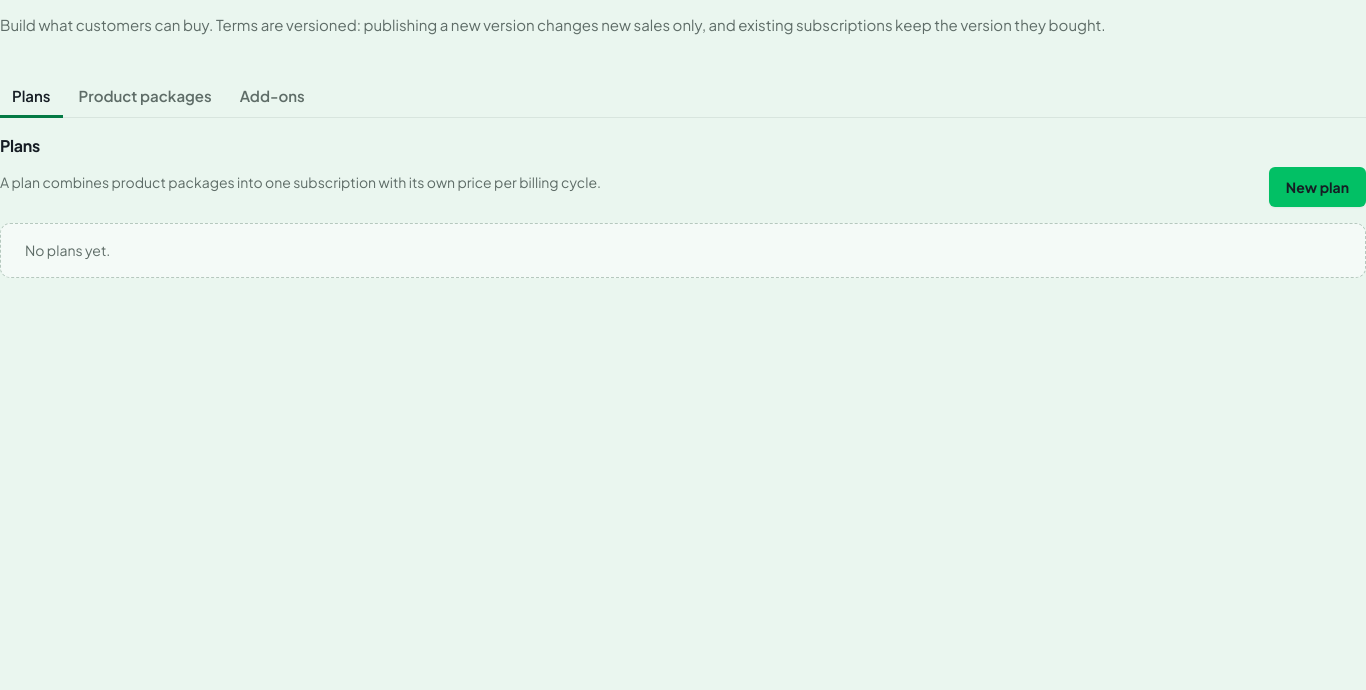
Test: the plan builder › publishes a new version of an existing package, pre-filled from the current one
Click the tab "Product packages".
click(145, 97)  # box [66, 77, 224, 118]
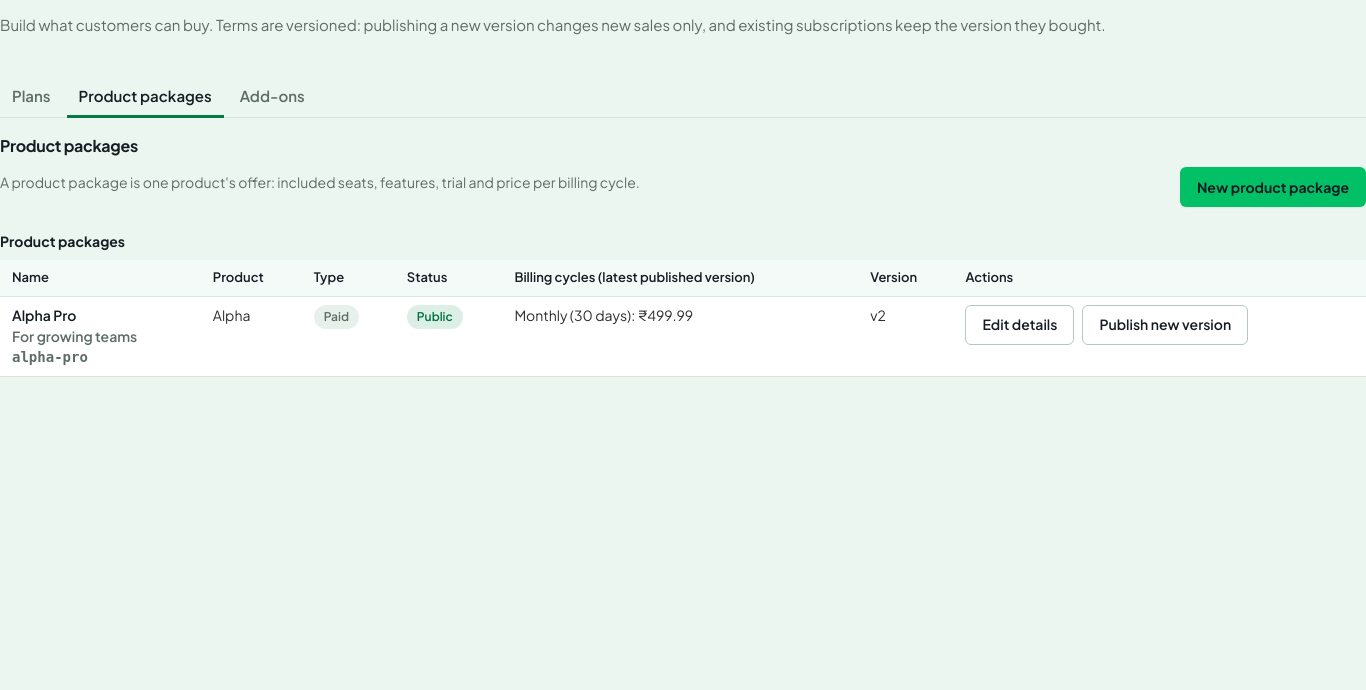
Click the button with aria-label "Publish new version of Alpha Pro".
click(1165, 325)  # box [1082, 305, 1248, 345]
(page scrolled)
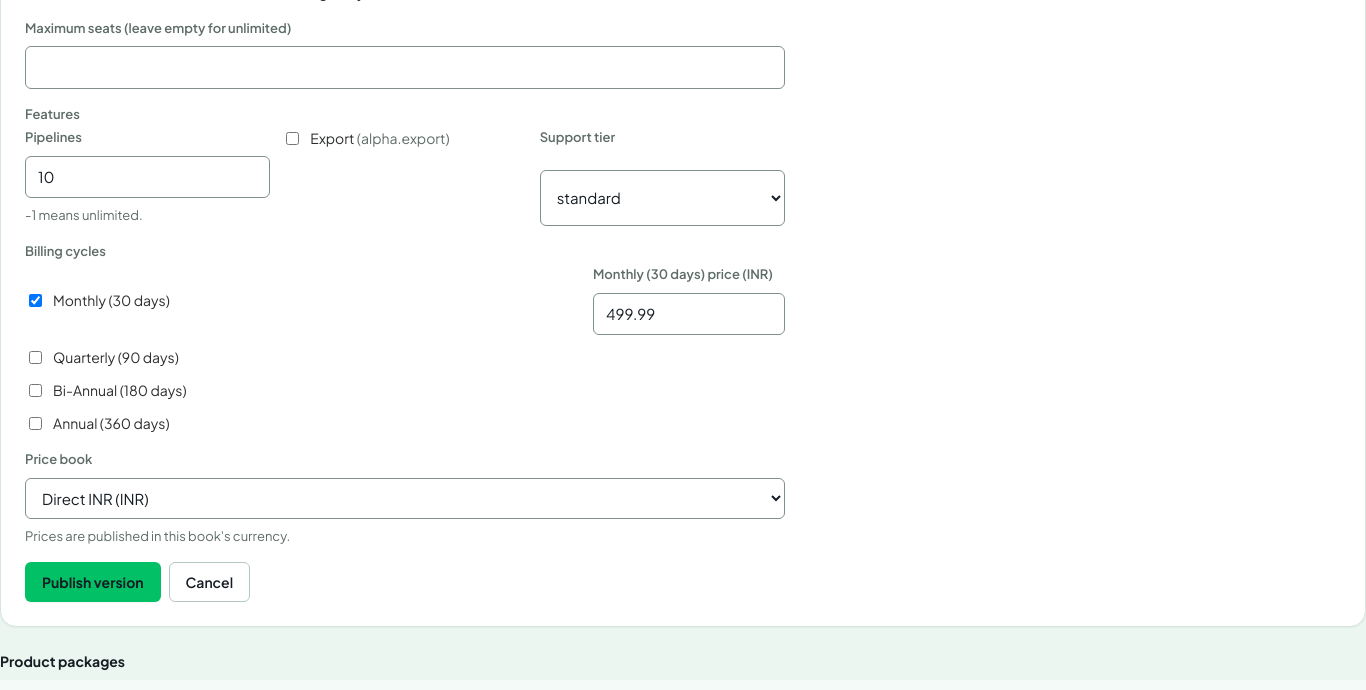
expect the field labelled "Monthly (30 days) price (INR)" holds "499.99": met
expect the field labelled "Pipelines" holds "10": met, box [25, 156, 270, 198]
Replace the text in the field labelled "Monthly (30 days) price (INR)" with "549" at (689, 314), box [593, 293, 785, 335]
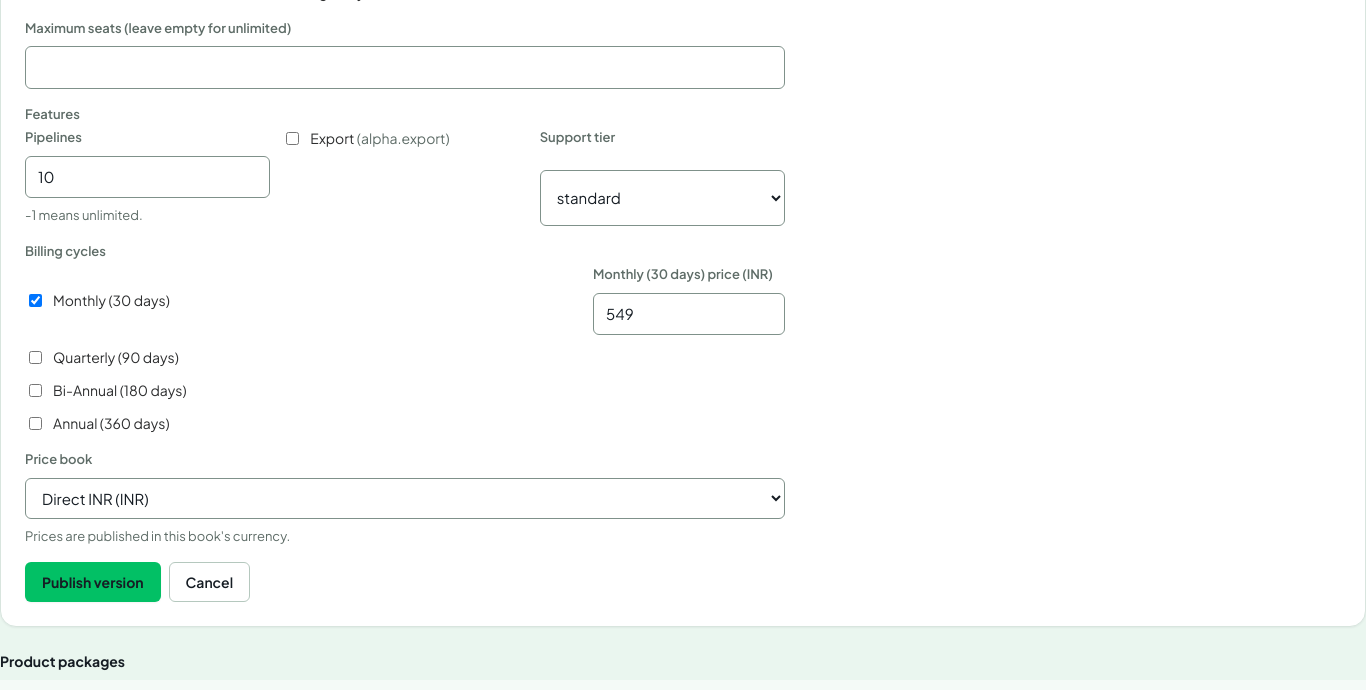
Click the button "Publish version".
click(93, 582)  # box [25, 562, 161, 602]
(page scrolled)
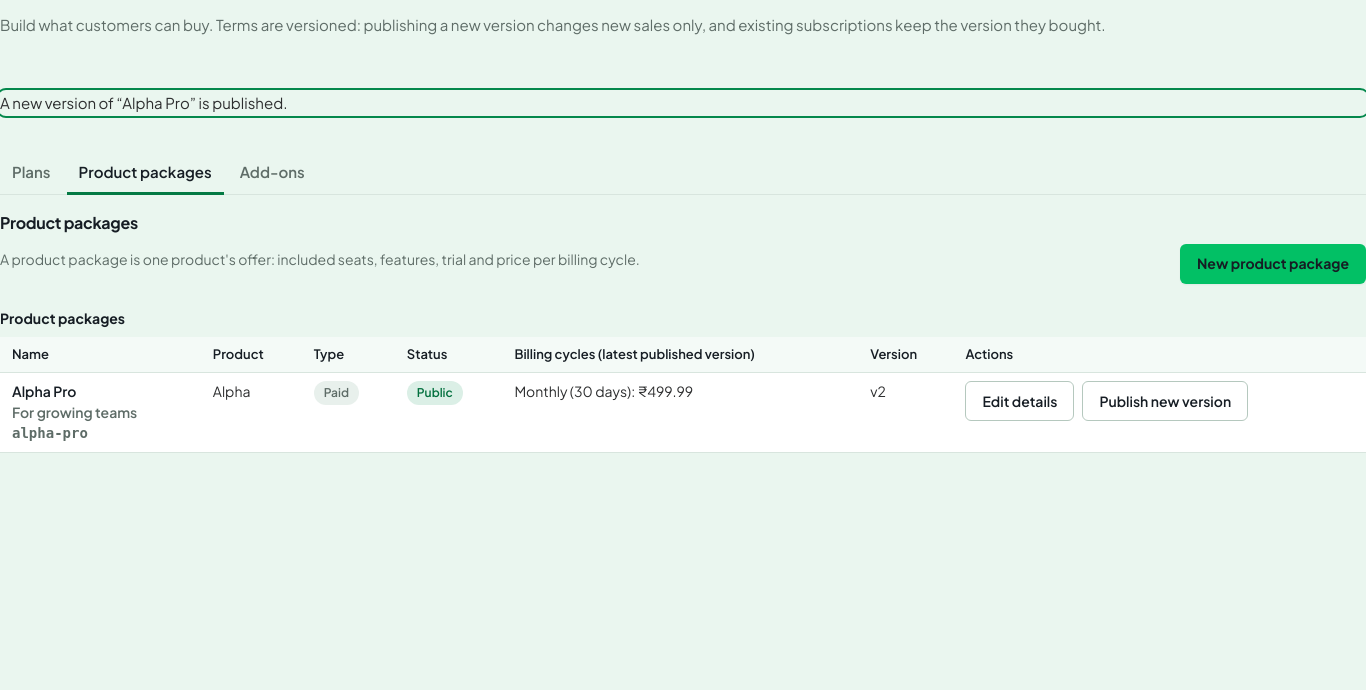
expect the text "A new version of “Alpha Pro” is published." is shown: met, box [0, 93, 288, 112]
